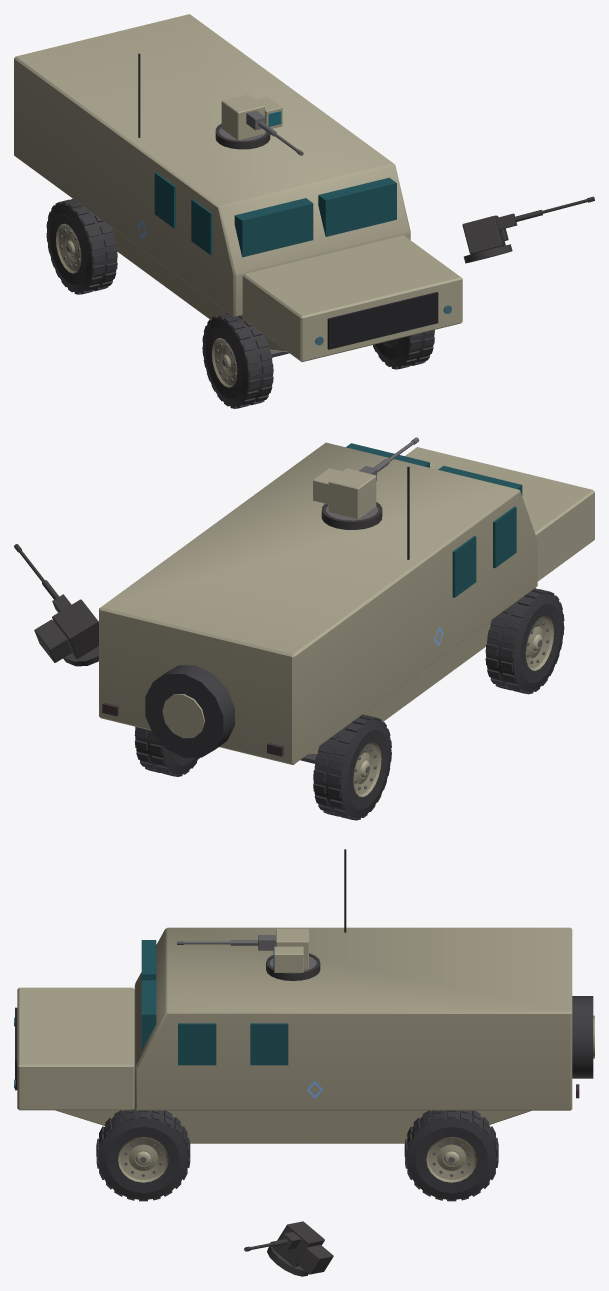
The model's file is apc__serval.glb.
3 views of the same model, one above another, from view 1: azimuth 30°, elevation 25°; view 2: azimuth 150°, elevation 25°; view 3: azimuth 270°, elevation 25° (orthographic). The views are drawn at different scales.
Visible parts, largest first — view 1: Hull_Mesh, Wheel_L1_Mesh, Wheel_L0_Mesh, Wreck, Turret_Mesh, Wheel_R1_Mesh, Gun_Mesh; view 2: Hull_Mesh, Wheel_L0_Mesh, Wheel_L1_Mesh, Wreck, Turret_Mesh, Wheel_R0_Mesh; view 3: Hull_Mesh, Wheel_R1_Mesh, Wheel_R0_Mesh, Wreck, Turret_Mesh, Gun_Mesh.
Part boxes in pixels (box(x1,y1,x2,y2)): Hull_Mesh: box(14, 14, 462, 361); Wheel_L1_Mesh: box(202, 313, 273, 408); Wheel_L0_Mesh: box(46, 198, 117, 294); Wreck: box(99, 123, 594, 368); Turret_Mesh: box(219, 94, 282, 140); Wheel_R1_Mesh: box(373, 330, 434, 369); Gun_Mesh: box(246, 110, 303, 155); Hull_Mesh: box(99, 442, 594, 764); Wheel_L0_Mesh: box(313, 714, 391, 820); Wheel_L1_Mesh: box(485, 588, 564, 694); Wreck: box(14, 502, 532, 820); Turret_Mesh: box(313, 468, 378, 520); Wheel_R0_Mesh: box(134, 727, 199, 776); Hull_Mesh: box(14, 849, 594, 1143); Wheel_R1_Mesh: box(96, 1109, 190, 1201); Wheel_R0_Mesh: box(404, 1110, 498, 1201); Wreck: box(141, 953, 488, 1276); Turret_Mesh: box(269, 928, 316, 972); Gun_Mesh: box(177, 935, 275, 950).
Size of what is drawn, in the model's own units: 5.57 by 3.43 by 6.69.
